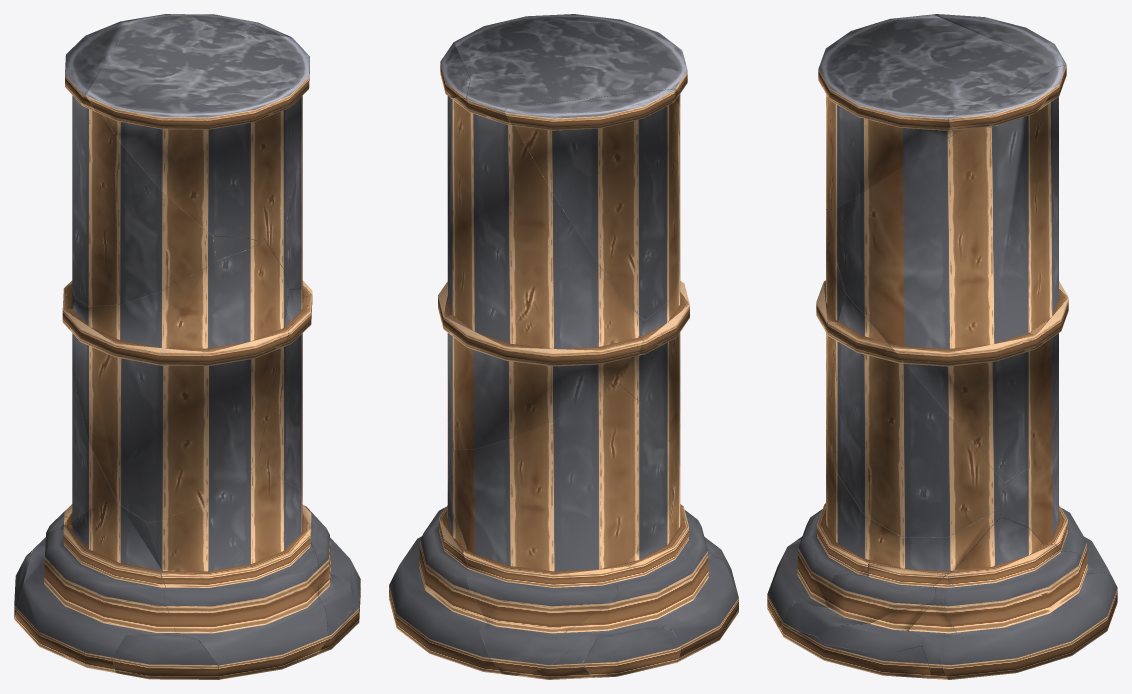
Rendered from Columna_v1_rota.gltf.
The picture shows the model from 3 angles, left to right: view 1: azimuth 30°, elevation 25°; view 2: azimuth 150°, elevation 25°; view 3: azimuth 270°, elevation 25°; orthographic projection.
Visible parts, largest first — view 1: Column_v1_cell.004, Column_v1_cell.005, Column_v1_cell.017, Column_v1_cell.007, Column_v1_cell.015, Column_v1_cell.002, Column_v1_cell.003, Column_v1_cell.016, Column_v1_cell.008, Column_v1_cell.006, Column_v1_cell.014, Column_v1_cell.013 (+2 smaller); view 2: Column_v1_cell.016, Column_v1_cell.008, Column_v1_cell.007, Column_v1_cell.005, Column_v1_cell.015, Column_v1_cell.001, Column_v1_cell.004, Column_v1_cell.011, Column_v1_cell.014; view 3: Column_v1_cell.016, Column_v1_cell.005, Column_v1_cell.002, Column_v1_cell.001, Column_v1_cell.017, Column_v1_cell.006, Column_v1_cell.008, Column_v1_cell, Column_v1_cell.013, Column_v1_cell.007, Column_v1_cell.004, Column_v1_cell.009 (+1 smaller).
Part boxes in pixels (x1,y1,x2,y2): Column_v1_cell.004: (62, 238, 289, 522); Column_v1_cell.005: (86, 23, 309, 241); Column_v1_cell.017: (147, 462, 328, 679); Column_v1_cell.007: (65, 21, 216, 306); Column_v1_cell.015: (15, 501, 175, 672); Column_v1_cell.002: (258, 289, 312, 488); Column_v1_cell.003: (112, 634, 219, 679); Column_v1_cell.016: (62, 14, 312, 308); Column_v1_cell.008: (39, 373, 116, 543); Column_v1_cell.006: (302, 504, 352, 638); Column_v1_cell.014: (172, 14, 291, 37); Column_v1_cell.013: (330, 544, 358, 609); Column_v1_cell.016: (438, 79, 644, 449); Column_v1_cell.008: (448, 385, 678, 675); Column_v1_cell.007: (505, 88, 680, 320); Column_v1_cell.005: (453, 14, 687, 108); Column_v1_cell.015: (517, 468, 738, 679); Column_v1_cell.001: (389, 477, 501, 673); Column_v1_cell.004: (620, 269, 689, 468); Column_v1_cell.011: (582, 627, 681, 677); Column_v1_cell.014: (440, 42, 470, 97); Column_v1_cell.016: (830, 65, 1068, 482); Column_v1_cell.005: (818, 14, 1056, 211); Column_v1_cell.002: (826, 294, 1003, 537); Column_v1_cell.001: (940, 517, 1117, 679); Column_v1_cell.017: (767, 430, 1001, 628); Column_v1_cell.006: (782, 564, 945, 636); Column_v1_cell.008: (995, 394, 1112, 578); Column_v1_cell: (778, 624, 931, 678); Column_v1_cell.013: (817, 603, 930, 654); Column_v1_cell.007: (933, 14, 1066, 69); Column_v1_cell.004: (816, 209, 849, 430); Column_v1_cell.009: (908, 570, 956, 679).
Bounding box in the file's own units: 2.35 × 4 × 2.35.
1 material, 1 textured.
